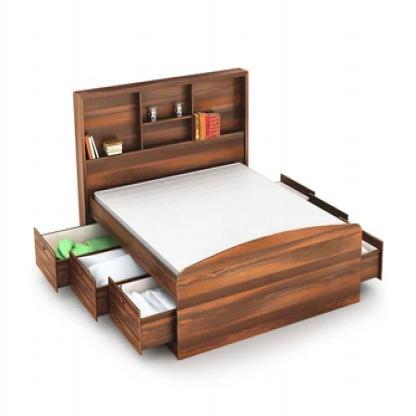Bed: (40, 73, 384, 366)
